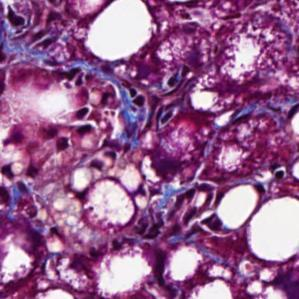inflammation: (144, 183, 223, 245), (46, 104, 104, 154), (0, 162, 41, 214)
